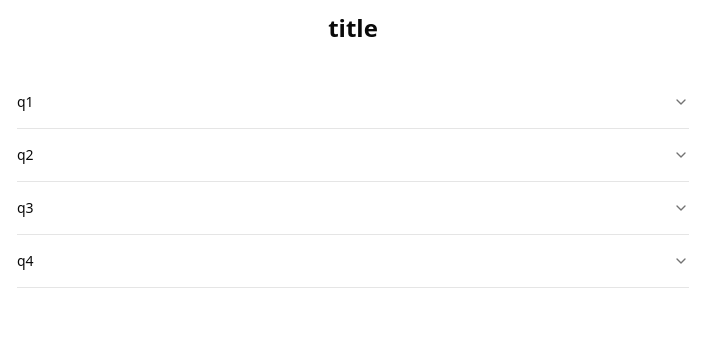
Test: PricingFaq › expands an answer when question is clicked
Note: Click the first question trigger
Click the button "q1" at coordinates (25, 102), box [17,76,689,128]
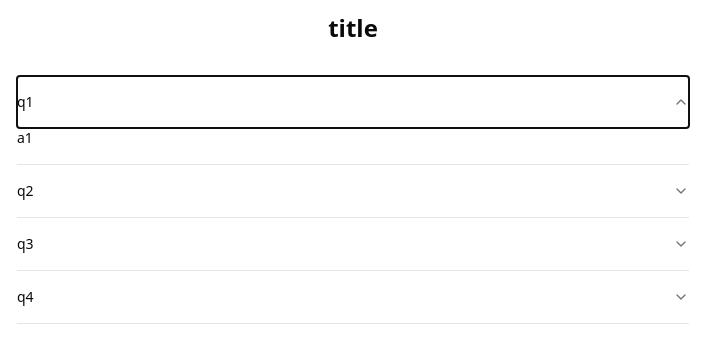
Result: the text "a1" is shown at [17,128,33,147]
